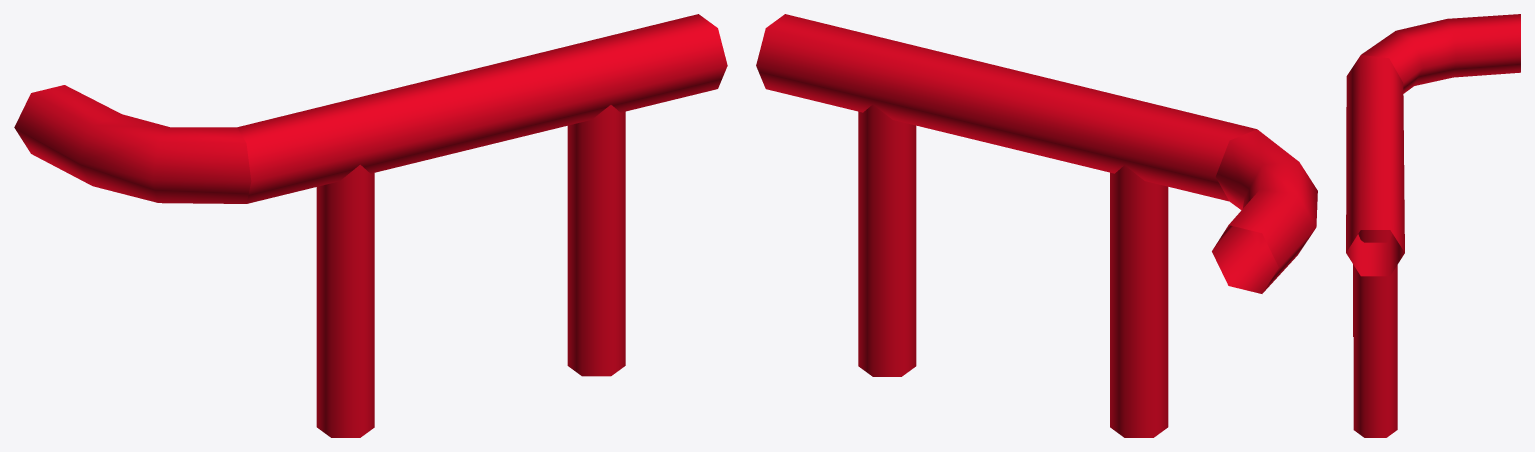
The model's file is V2_Pipemetal5.fbx.
3 views of the same model, side by side, from view 1: azimuth 30°, elevation 25°; view 2: azimuth 150°, elevation 25°; view 3: azimuth 270°, elevation 25° (orthographic). The views are drawn at different scales.
Parts seen in each view (by area): view 1: V2_Pipemetal5; view 2: V2_Pipemetal5; view 3: V2_Pipemetal5.
Part boxes in pixels (left/top/right/bottom): V2_Pipemetal5: left=14, top=14, right=727, bottom=437; V2_Pipemetal5: left=756, top=14, right=1317, bottom=437; V2_Pipemetal5: left=1346, top=14, right=1520, bottom=437.
Size of the model in its own units: 2.05 by 1.04 by 0.6834.
